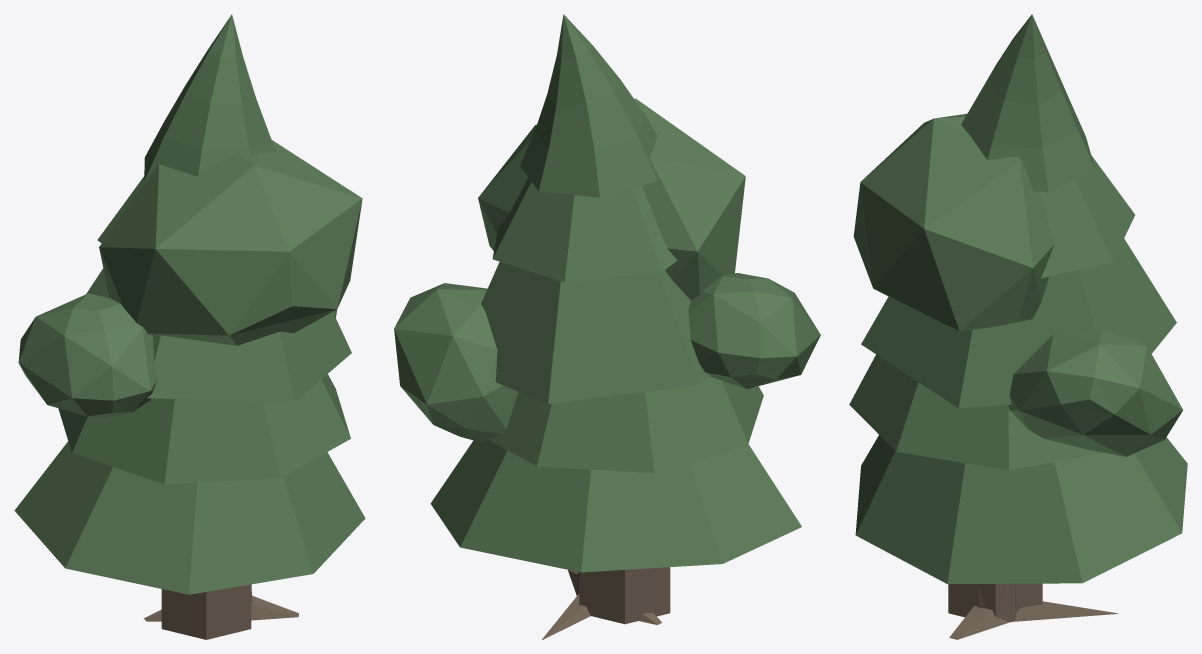
The model's file is marieträd_2.fbx.
3 renders of one model, left to right at view 1: azimuth 30°, elevation 25°; view 2: azimuth 150°, elevation 25°; view 3: azimuth 270°, elevation 25°, orthographic. The views are drawn at different scales.
Visible parts, largest first — view 1: Bend, Träd; view 2: Bend, Träd; view 3: Bend, Träd.
Part boxes in pixels (x1,y1,x2,y2): Bend: (14,14,365,639); Träd: (18,140,362,621); Bend: (430,14,801,624); Träd: (394,98,820,639); Bend: (849,14,1187,617); Träd: (853,113,1182,639).
Bounding box in the file's own units: 483 × 768 × 386.
